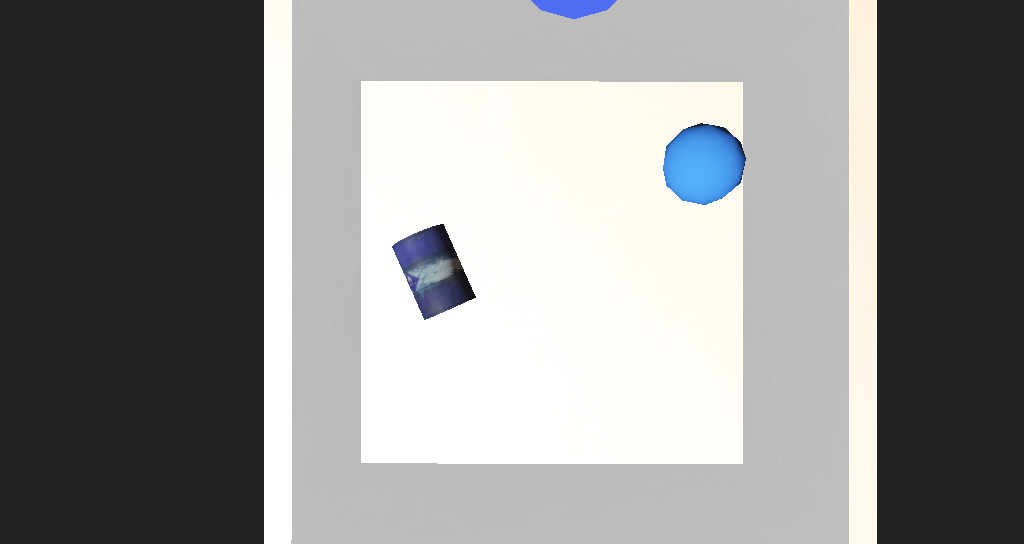cone: (377, 239, 445, 296)
cylinder: (458, 72, 539, 157)
sphere: (586, 188, 653, 231)
